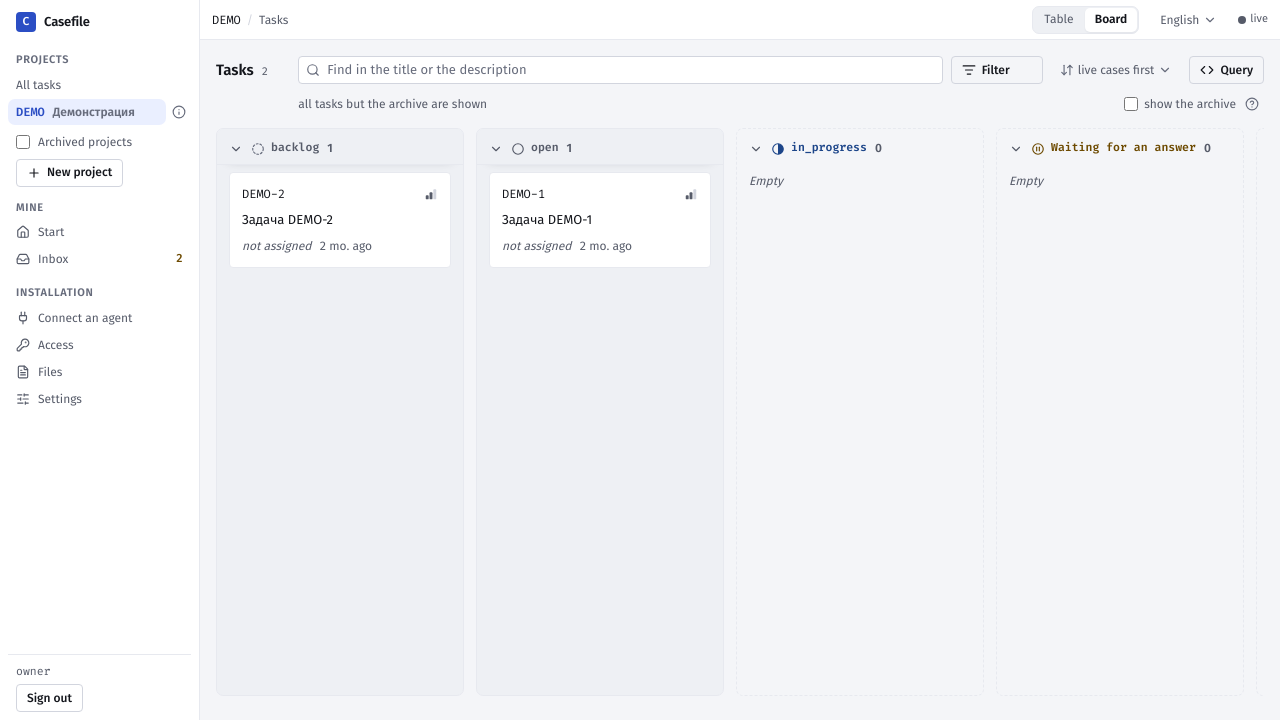
it: полоса над таблицей считает с последнего чтения таблицы › кадр, пришедший, пока запрос таблицы в пути, остаётся в полосе
Expected: the element that starts with "DEMO-1" is shown, [489, 172, 711, 268]
Click the link "Table". click: click(1059, 19)
box: [1044, 12, 1074, 26]
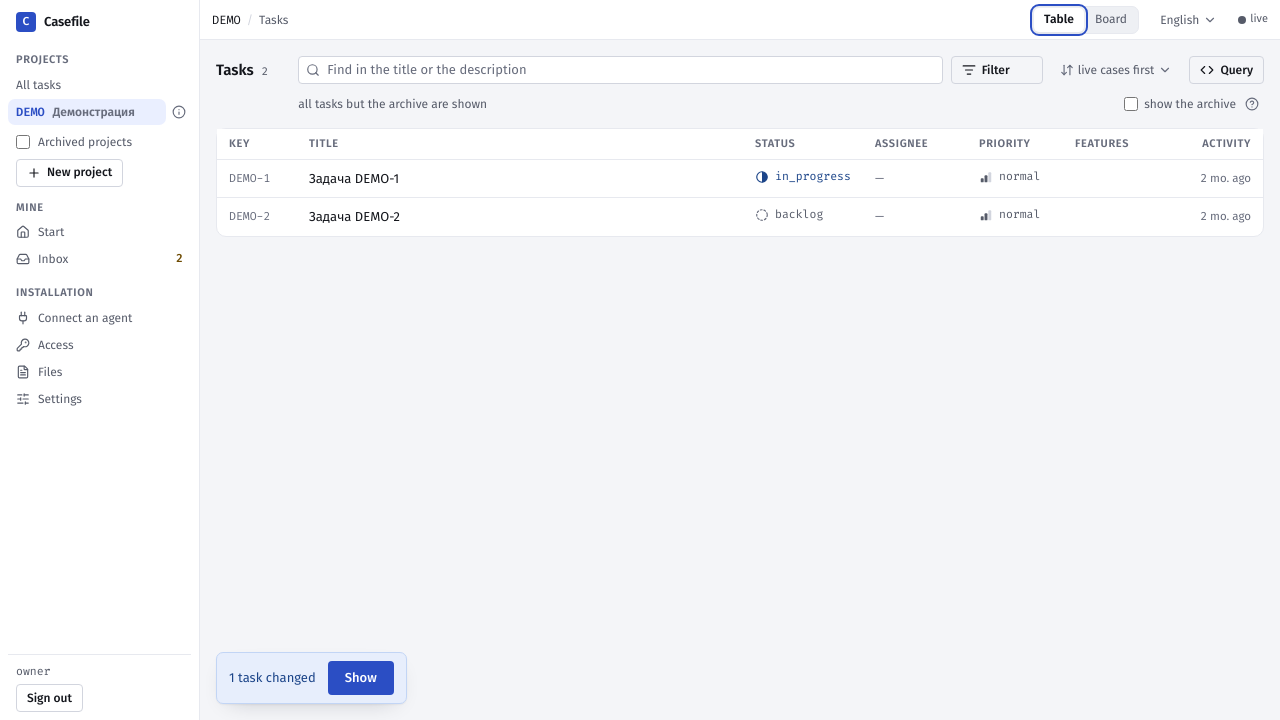
Expected: the text "in_progress" is shown, [775, 168, 851, 185]
Expected: the text "backlog" is shown, [775, 206, 823, 224]
Click the button "Show". click: click(361, 678)
box: [328, 661, 394, 695]
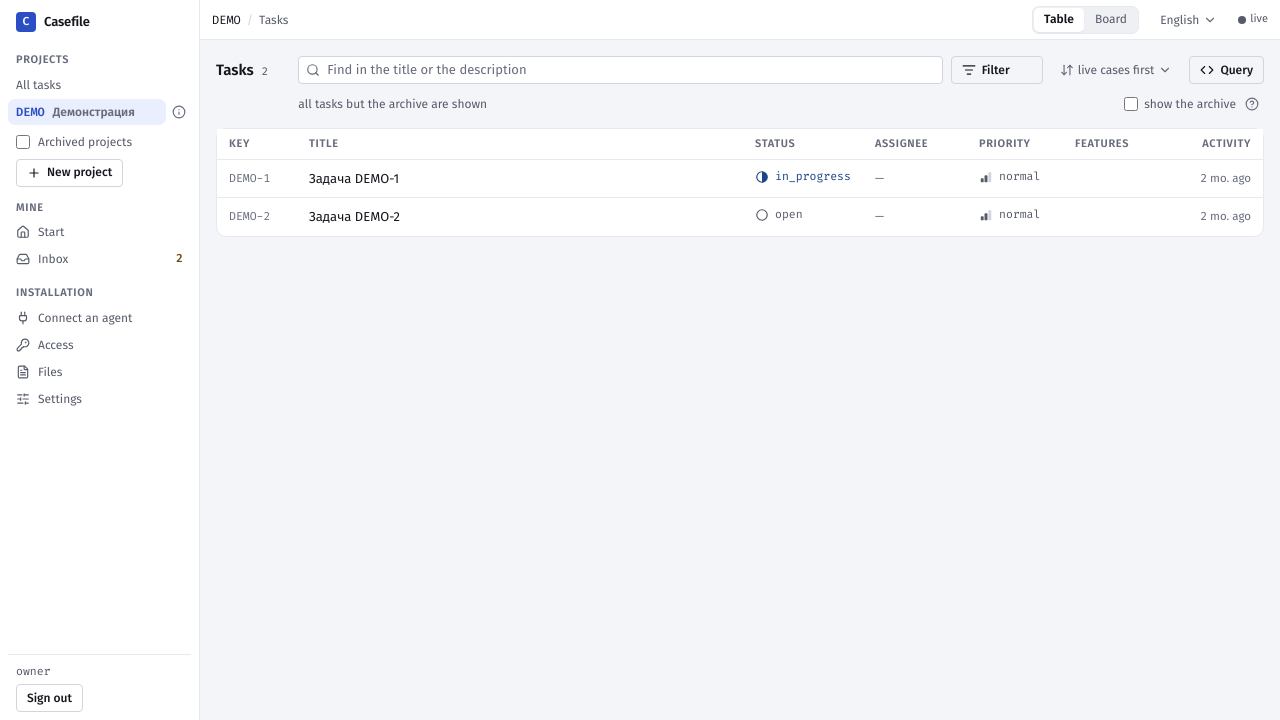
Expected: the text "open" is shown, [775, 206, 803, 224]
